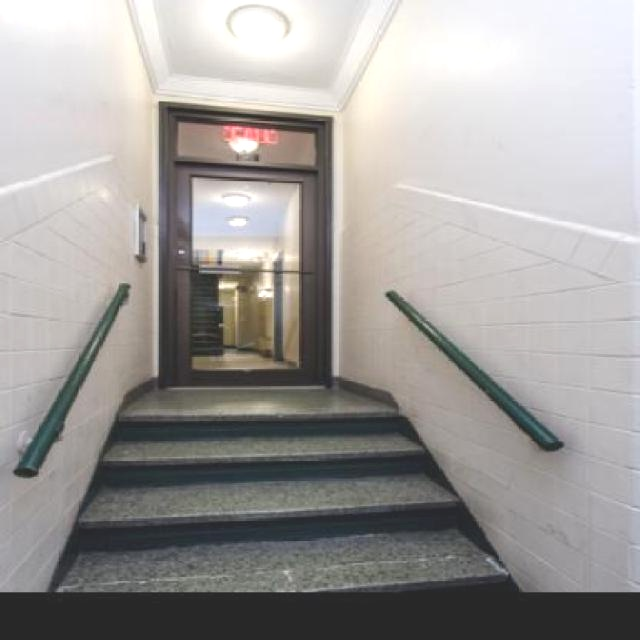stair: (40, 379, 546, 590)
